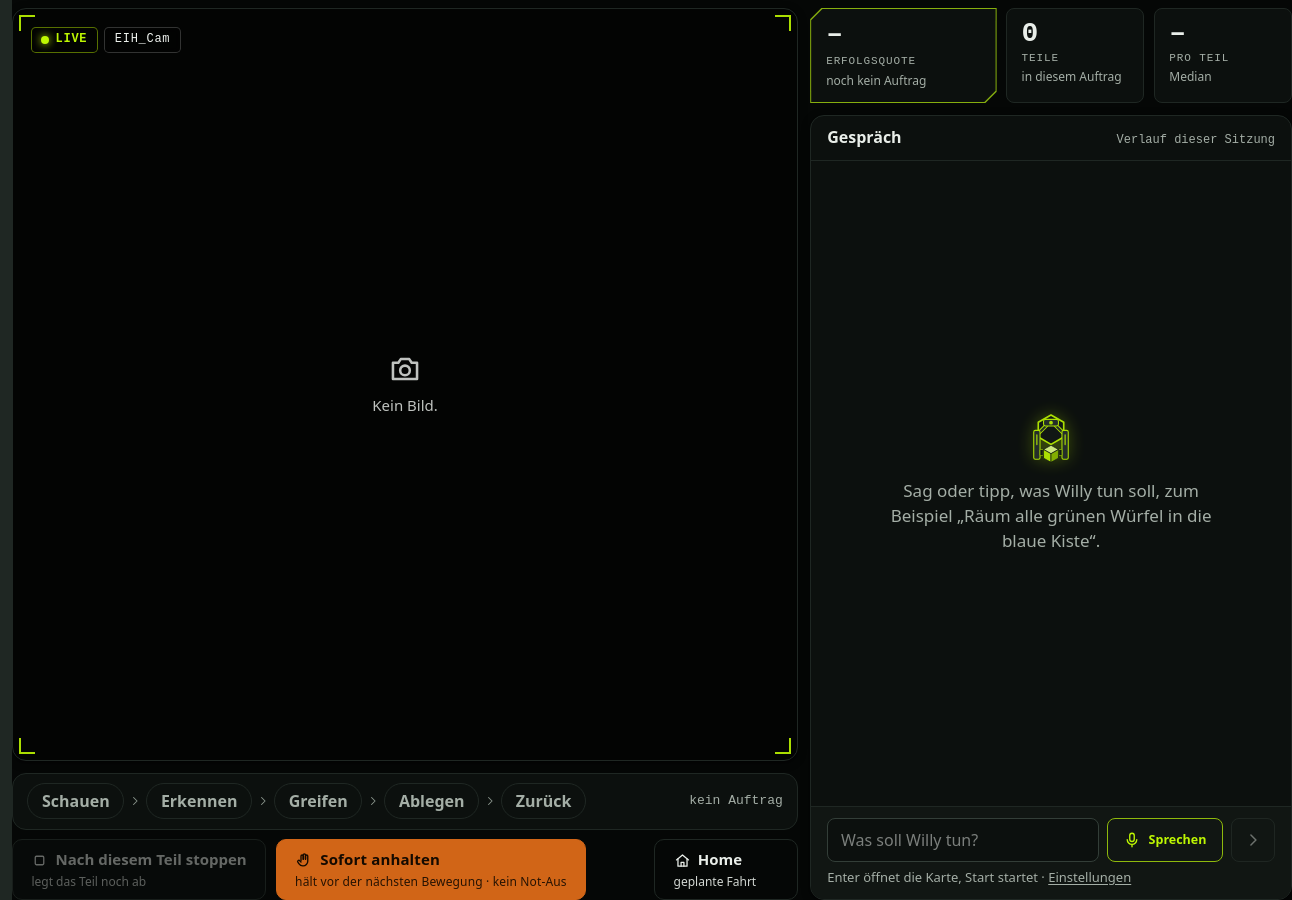
Test case: the card of a sort › looks as it always did for a reading of one kind: no rules, no way to add one
(page scrolled)
Type "Grüne Teile in die gelbe Kiste, rote in die blaue" into the field named "Befehl an Willy".
click(963, 840); type("Grüne Teile in die gelbe Kiste, rote in die blaue")  # box [827,818,1099,862]
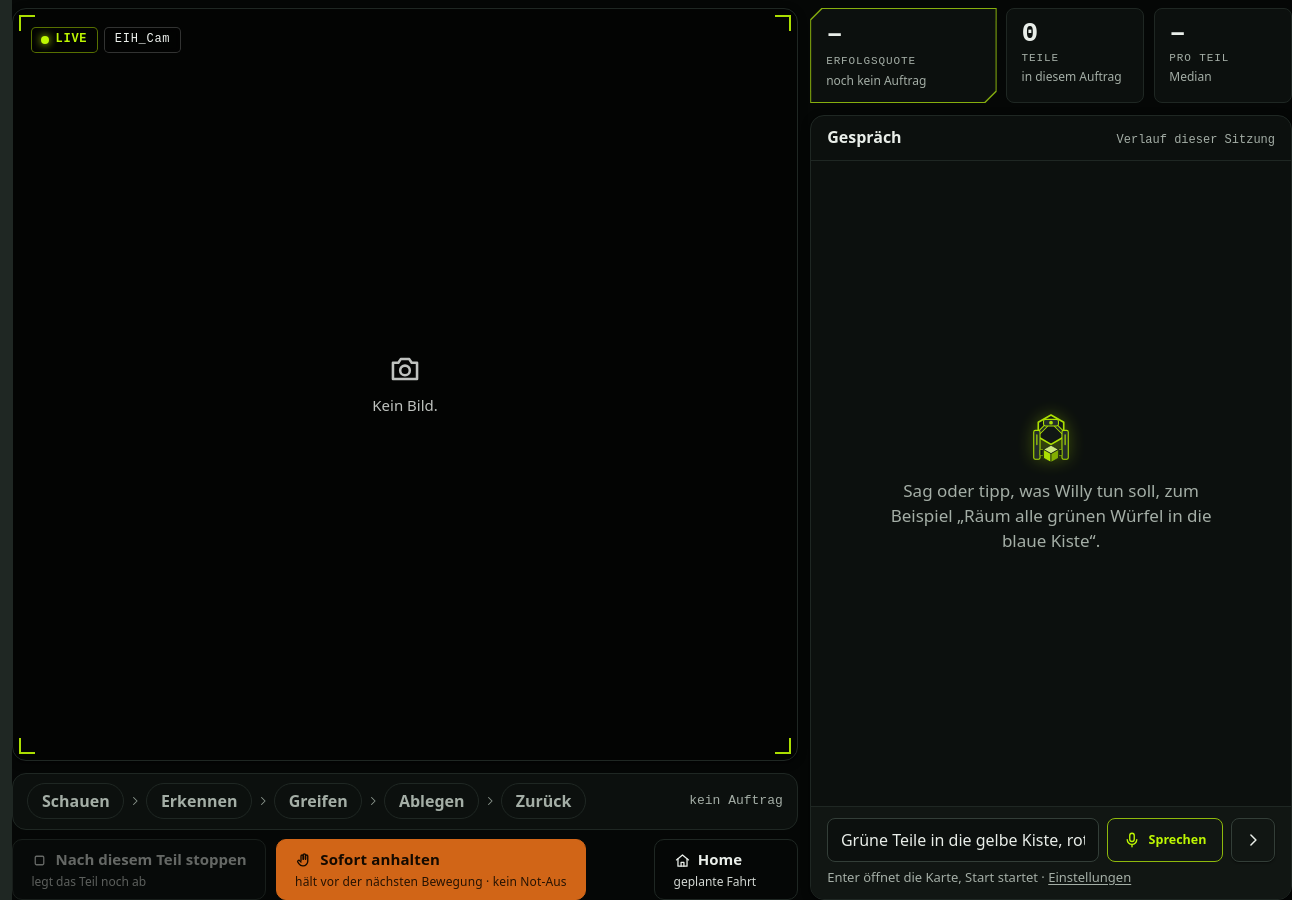
Press Enter in the field named "Befehl an Willy", box [827,818,1099,862]
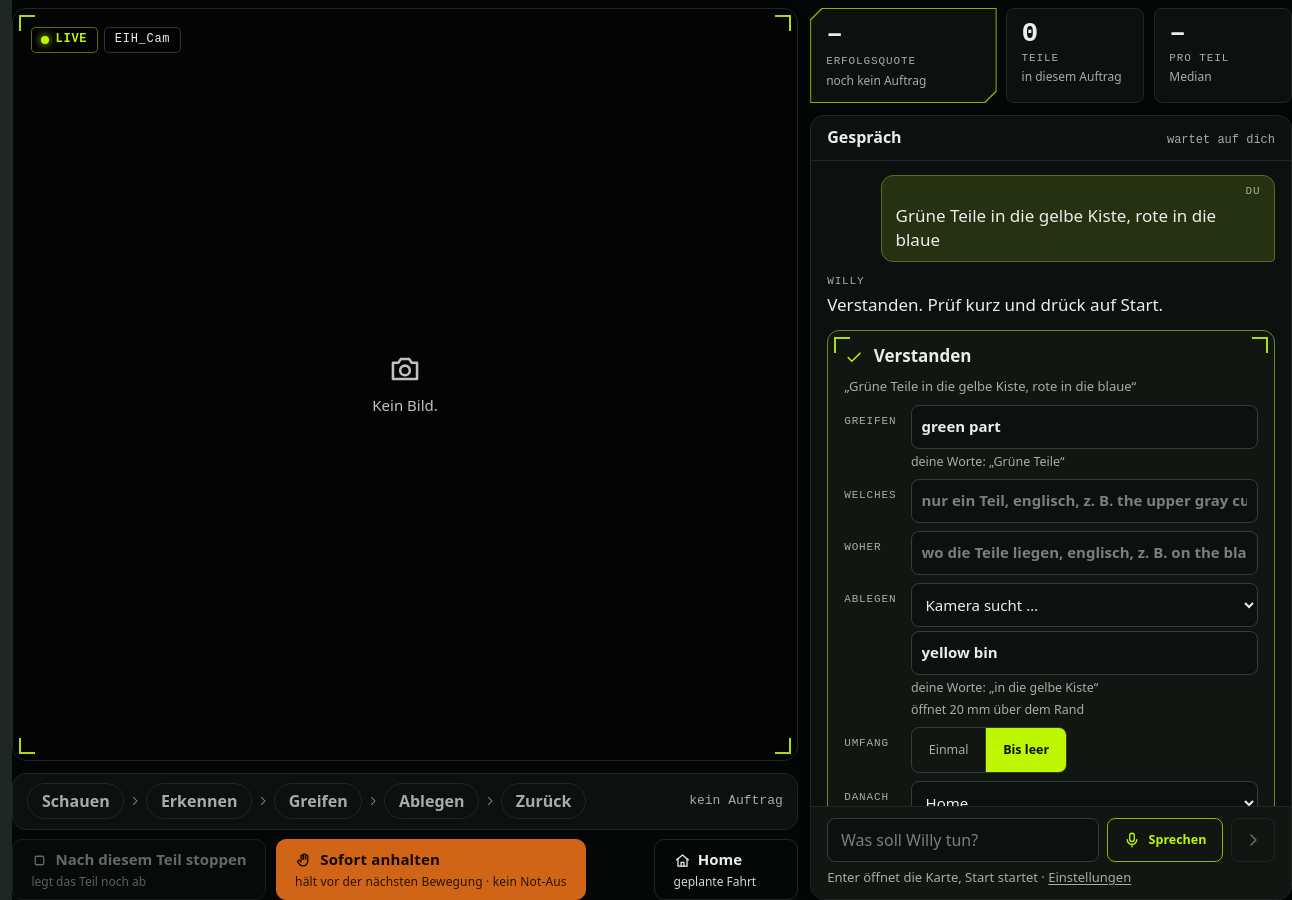
Expected: the text "Verstanden. Prüf kurz und drück auf Start." is shown, [827,293,1163,318]
